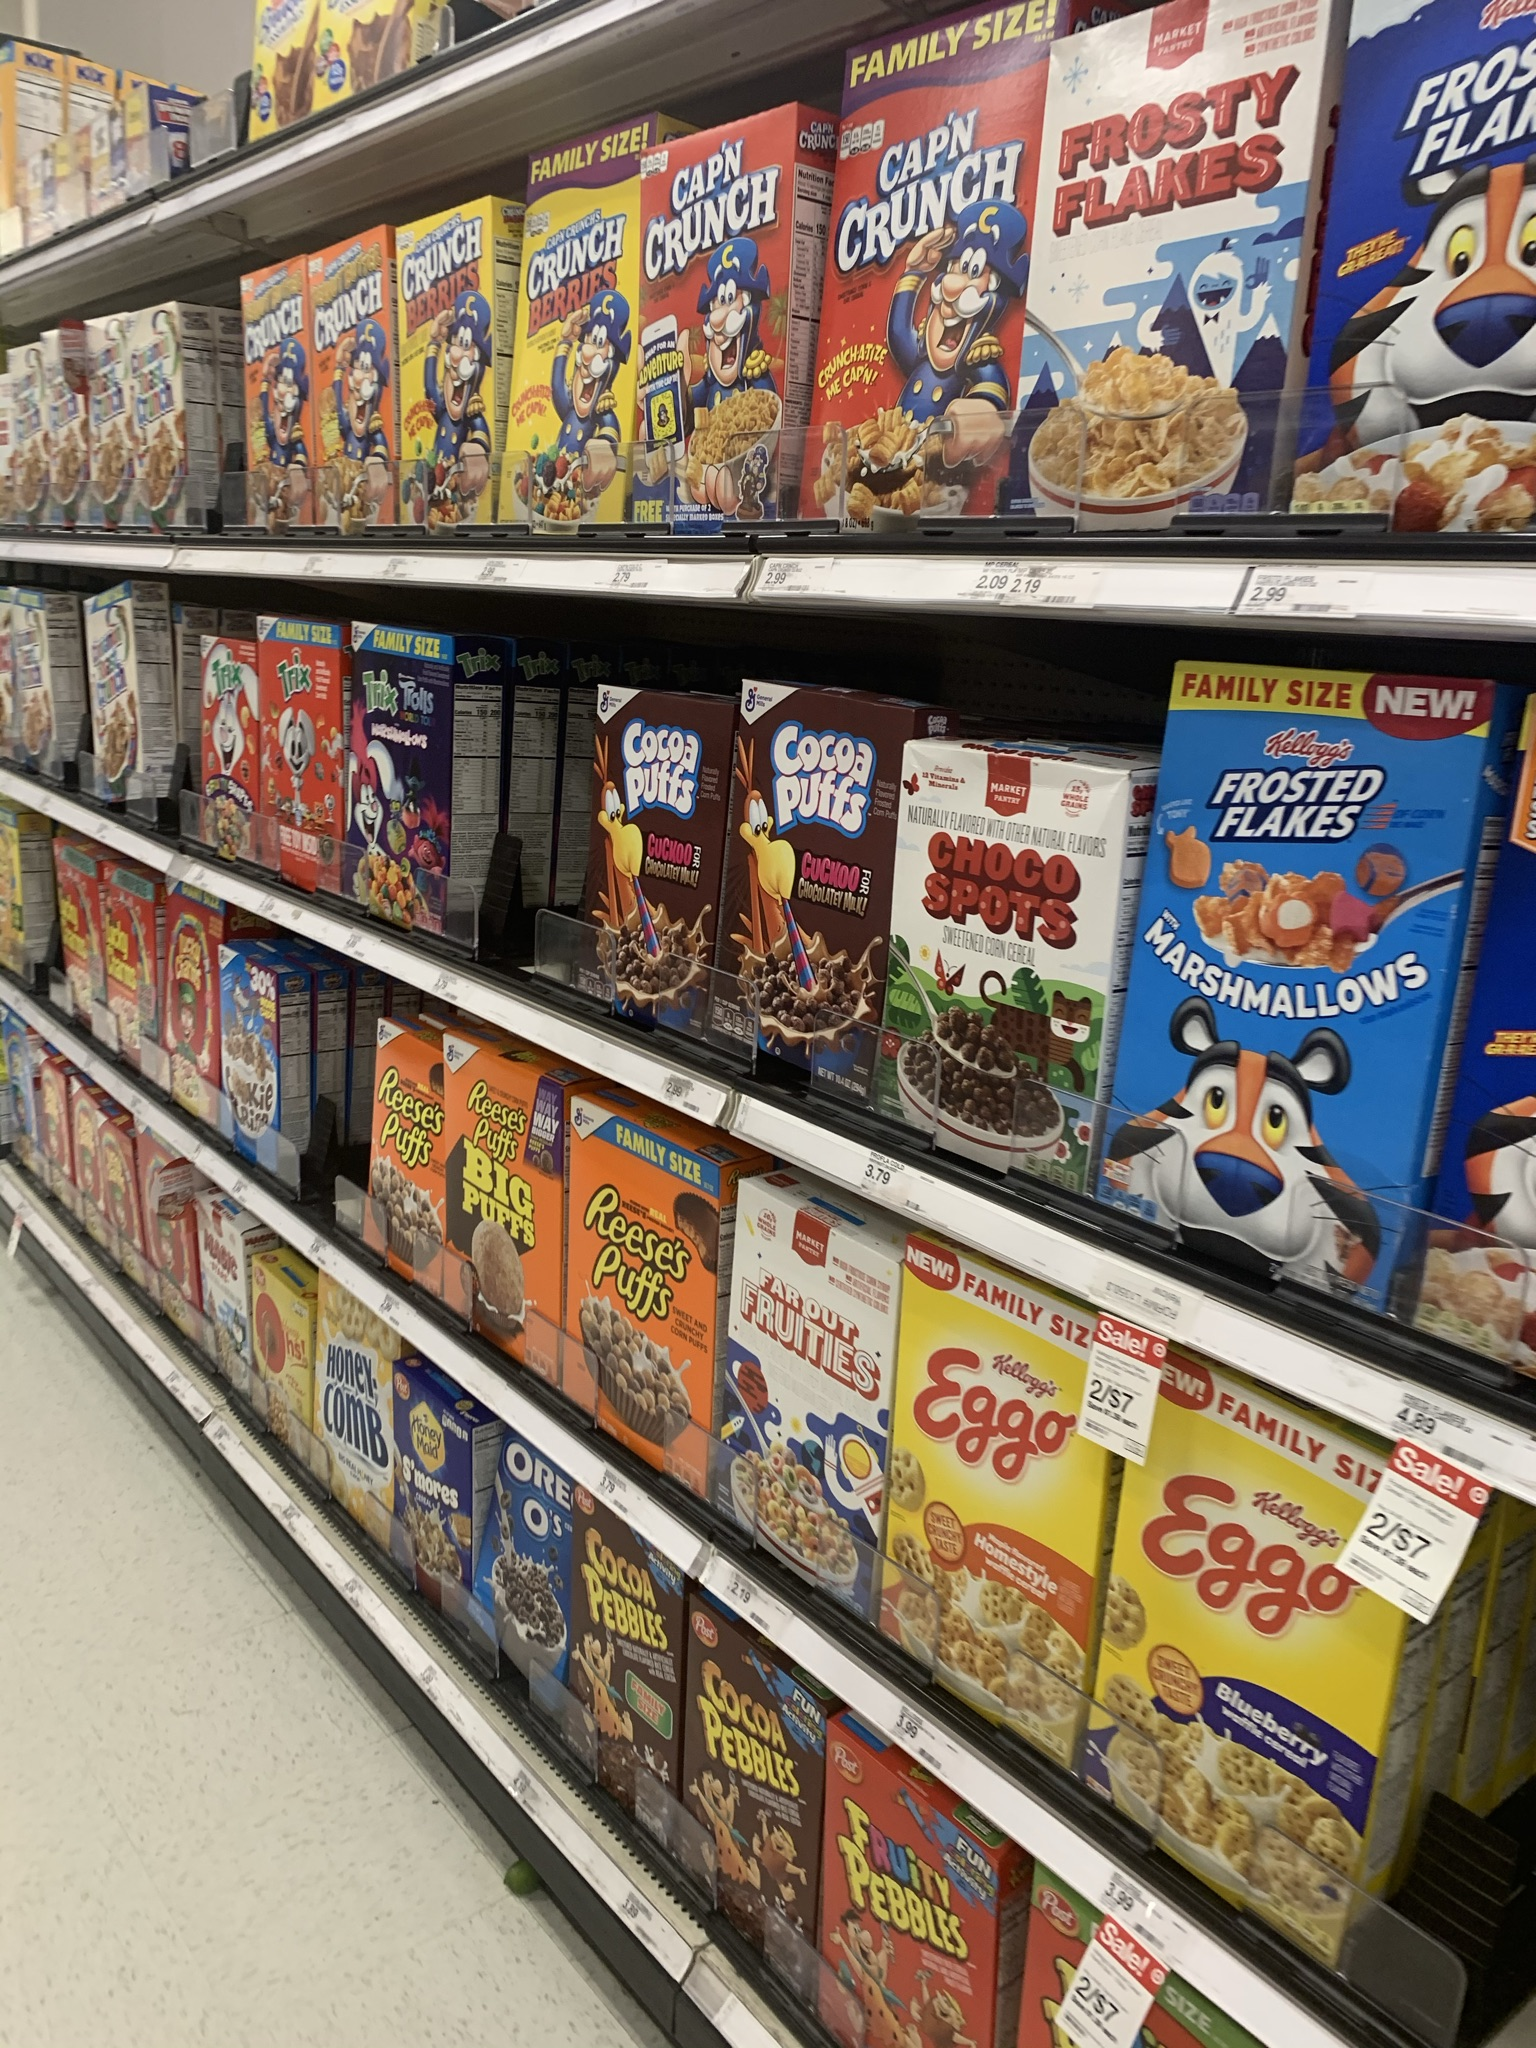cereal: (1144, 668, 1439, 1301), (1137, 1350, 1391, 1951), (892, 1234, 1104, 1801), (1046, 31, 1284, 521), (821, 42, 1033, 522), (891, 742, 1097, 1201), (720, 1166, 892, 1634), (550, 1076, 731, 1506), (731, 669, 891, 1109), (639, 131, 797, 560), (682, 1574, 821, 2030), (818, 1719, 1000, 2048), (511, 147, 637, 531), (584, 676, 708, 1061), (437, 1030, 563, 1408), (571, 1506, 678, 1888), (386, 218, 502, 526), (344, 621, 452, 932), (242, 610, 357, 893), (295, 244, 403, 526), (474, 1430, 566, 1758), (352, 1008, 450, 1313), (308, 1271, 410, 1551), (387, 1366, 481, 1637), (219, 261, 305, 522), (152, 889, 218, 1140), (184, 632, 253, 864), (215, 947, 286, 1171)
